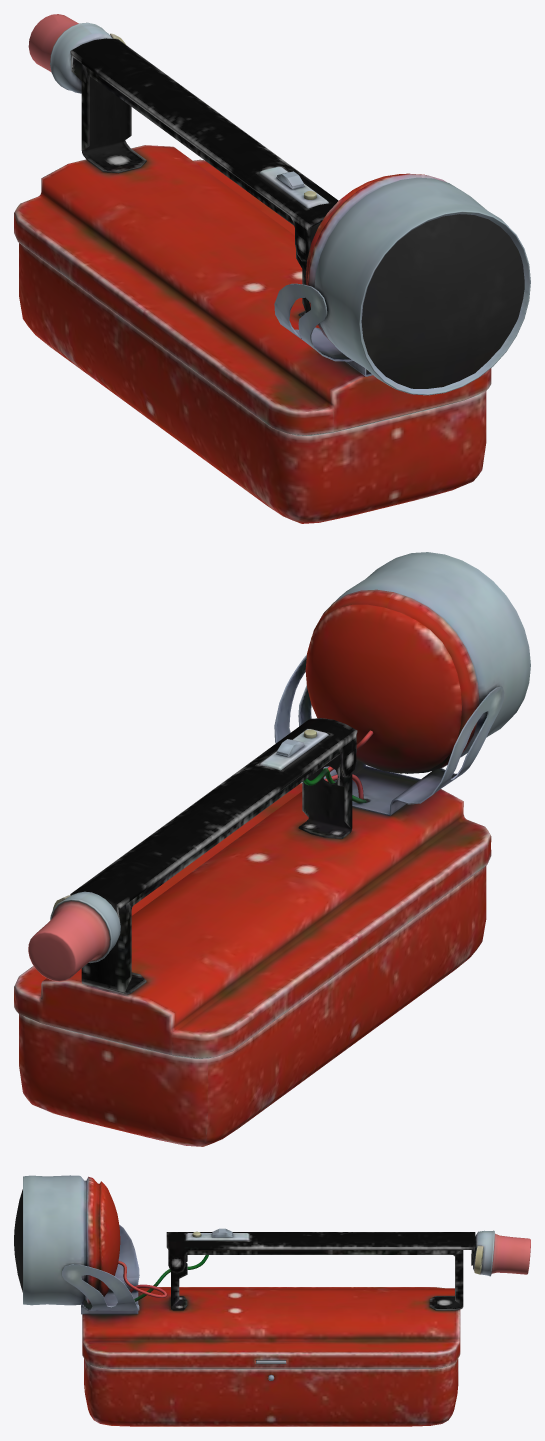
File: design-vintage-flashlight.glb
3 views of the same model, one above another, from view 1: azimuth 30°, elevation 25°; view 2: azimuth 150°, elevation 25°; view 3: azimuth 270°, elevation 25° (orthographic). The views are drawn at different scales.
Parts seen in each view (by area): view 1: vintage_flashlight; view 2: vintage_flashlight; view 3: vintage_flashlight.
Part boxes in pixels (x1,y1,x2,y2): vintage_flashlight: (14,14,530,523); vintage_flashlight: (14,552,530,1146); vintage_flashlight: (14,1175,530,1426).
Bounding box in the file's own units: 0.0959 × 0.1443 × 0.3055.
Materials: 2 (2 with a texture image).
